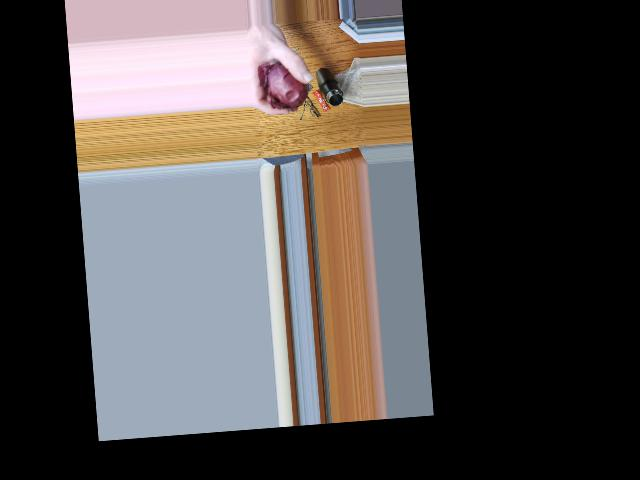onion: (262, 59, 310, 109)
